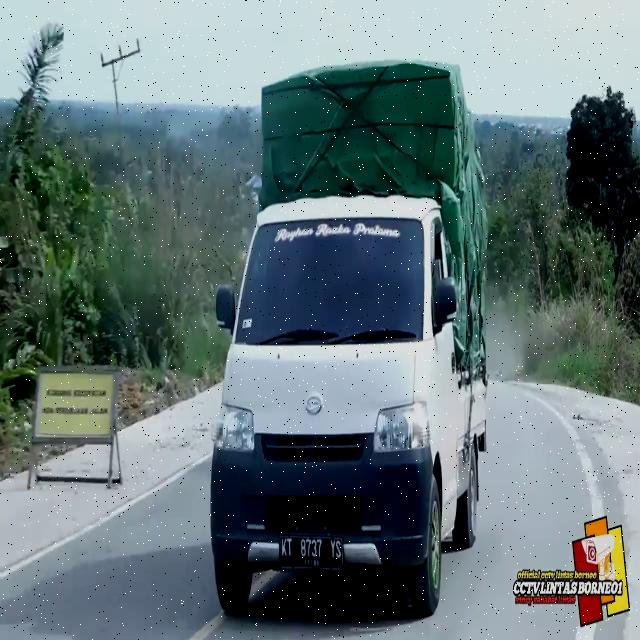Golongan IVB: (208, 197, 490, 623)
